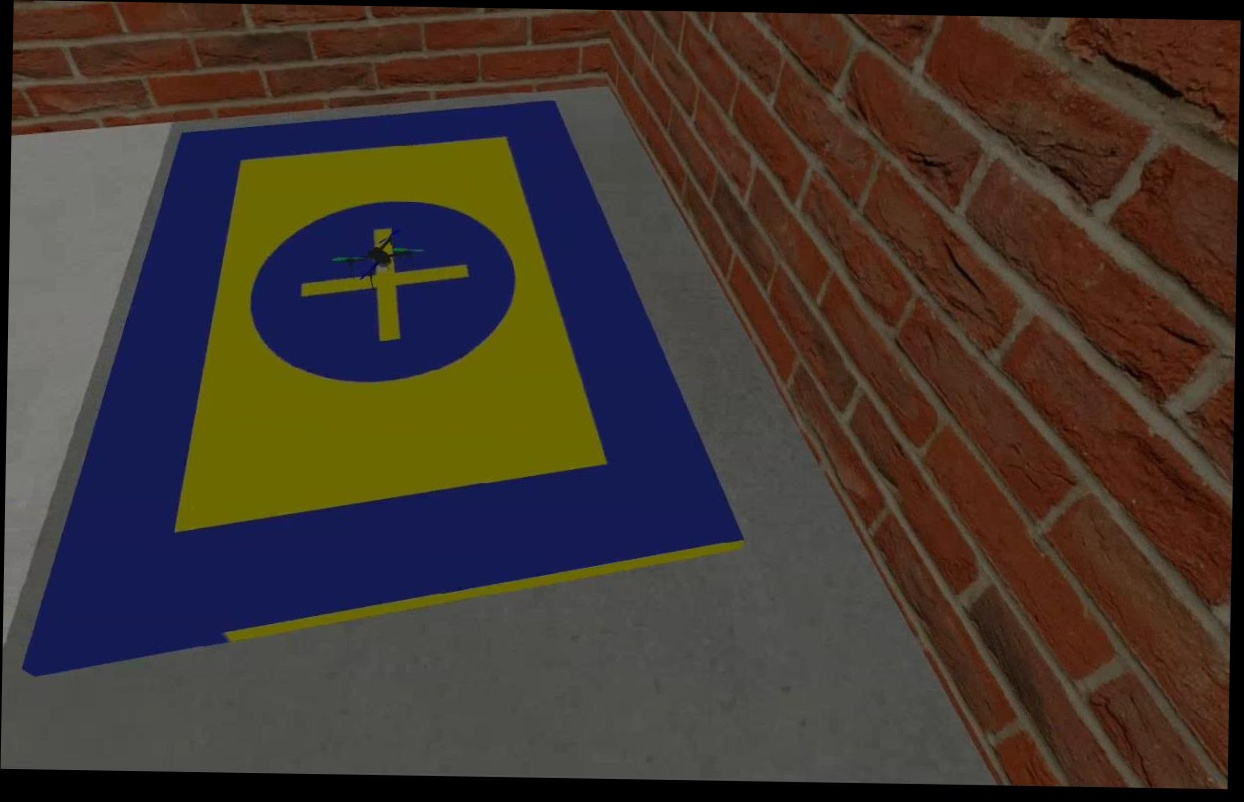large_base: (14, 90, 752, 682)
